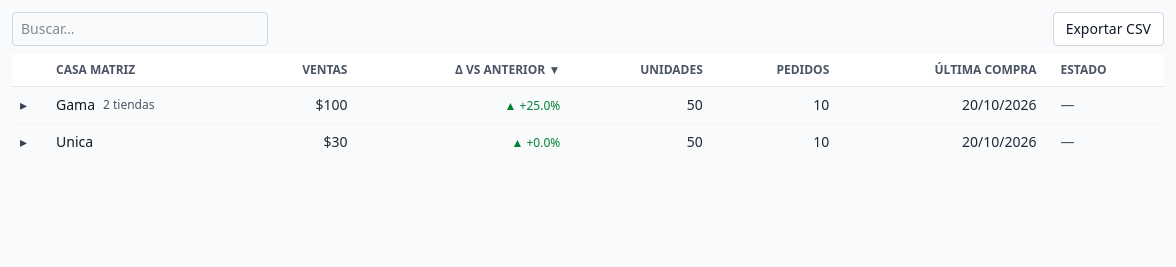
Test case: TrajectoryTable › with renderEvolution › opening a chain shows its evolution and then its stores
Click the button named "Expandir": [24, 105] box [16,95,31,115]
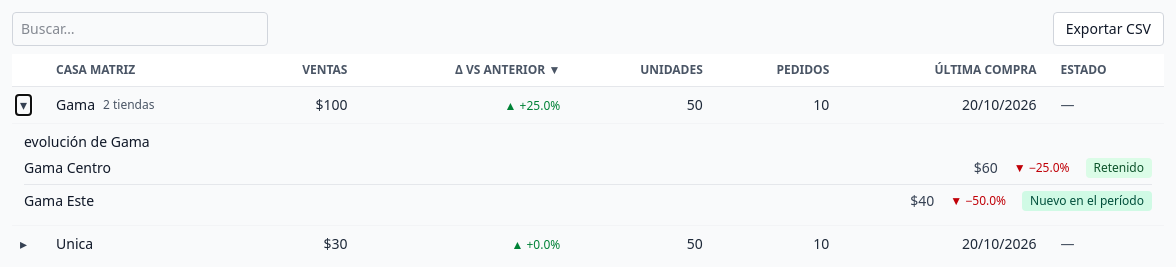
expect the text "evolución de Gama" is shown: met, box [24,132,150,151]
expect the text "Gama Centro" is shown: met, box [24,158,111,178]
